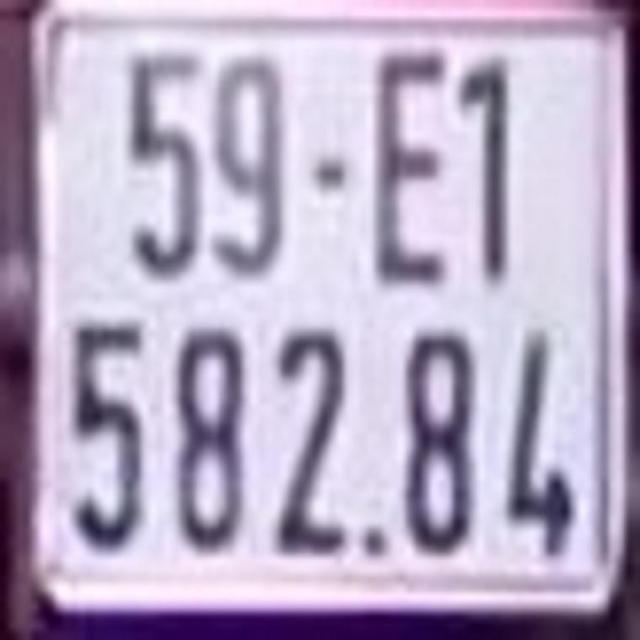1: (464, 52, 507, 276)
2: (276, 328, 343, 553)
4: (512, 324, 576, 550)
5: (73, 322, 143, 545), (131, 50, 196, 269)
8: (402, 322, 475, 554), (179, 327, 244, 547)
9: (214, 57, 285, 265)
E: (371, 51, 453, 295)
